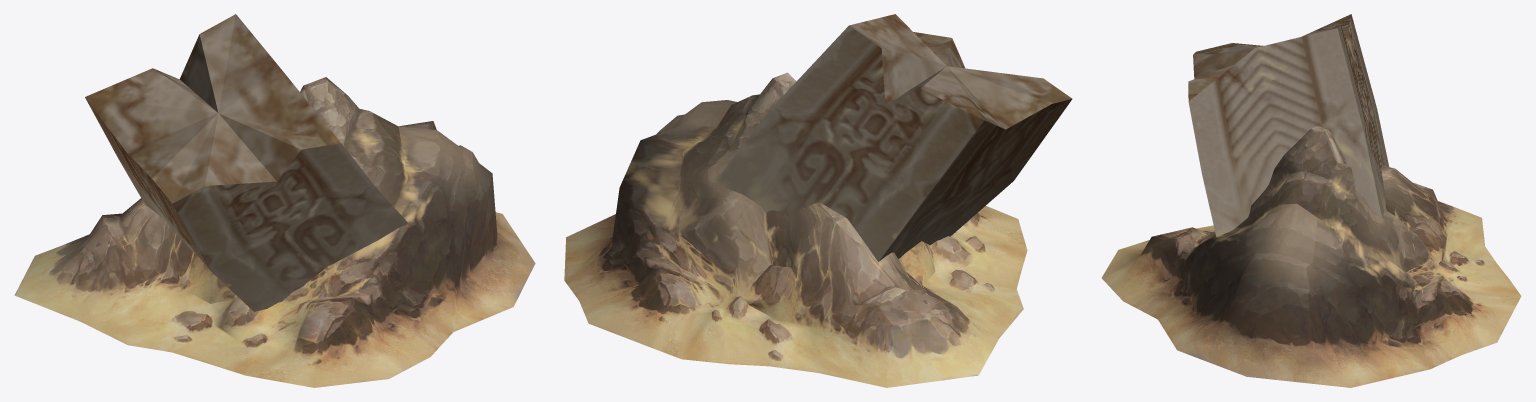
The model's file is Scene_Build_TaZiShaMo_GongMen_4.FBX.
3 views of the same model, side by side, from view 1: azimuth 30°, elevation 25°; view 2: azimuth 150°, elevation 25°; view 3: azimuth 270°, elevation 25° (orthographic). The views are drawn at different scales.
Parts seen in each view (by area): view 1: Scene_Build_TaZiShaMo_GongMen_4; view 2: Scene_Build_TaZiShaMo_GongMen_4; view 3: Scene_Build_TaZiShaMo_GongMen_4.
Part boxes in pixels (left/top/right/bottom): Scene_Build_TaZiShaMo_GongMen_4: left=14, top=14, right=535, bottom=387; Scene_Build_TaZiShaMo_GongMen_4: left=564, top=14, right=1072, bottom=387; Scene_Build_TaZiShaMo_GongMen_4: left=1101, top=14, right=1521, bottom=387.
Size of the model in its own units: 1645 by 952 by 1502.
1 material, 1 textured.
